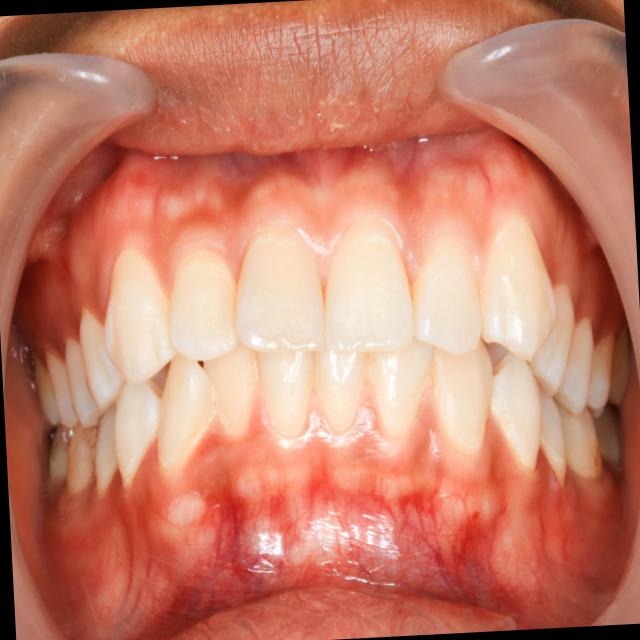Tooth: (325, 219, 413, 352), (478, 218, 557, 362), (234, 229, 325, 352), (104, 248, 178, 383), (410, 236, 482, 356), (169, 251, 240, 360), (433, 337, 493, 452), (369, 332, 433, 437), (158, 353, 215, 470), (490, 351, 542, 469), (203, 340, 260, 436), (314, 337, 371, 431), (79, 307, 126, 420), (115, 378, 163, 487), (531, 285, 575, 397), (257, 350, 314, 434), (553, 396, 602, 478), (554, 319, 593, 414), (537, 383, 567, 487), (65, 339, 99, 428), (45, 351, 78, 427), (585, 333, 614, 418), (68, 420, 98, 492), (96, 402, 119, 493), (607, 325, 630, 405), (35, 358, 60, 425), (593, 403, 619, 460), (49, 431, 69, 479)
